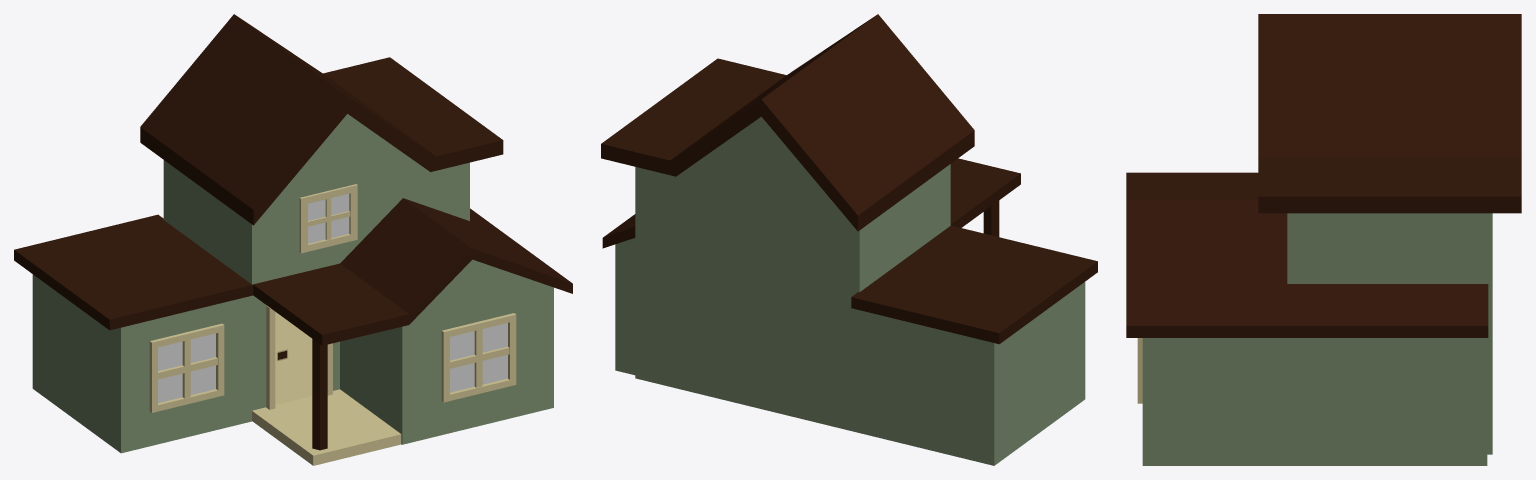
The model's file is casa verde_opt.glb.
The picture shows the model from 3 angles, left to right: view 1: azimuth 30°, elevation 25°; view 2: azimuth 150°, elevation 25°; view 3: azimuth 270°, elevation 25°; orthographic projection. The views are drawn at different scales.
Visible parts, largest first — view 1: Object_4; view 2: Object_4; view 3: Object_4.
Boxes of the visible parts, left/top/right/bottom form: Object_4: left=14, top=14, right=572, bottom=465; Object_4: left=601, top=14, right=1097, bottom=465; Object_4: left=1126, top=14, right=1521, bottom=465.
Bounding box in the file's own units: 18.65 × 14.16 × 13.94.
Materials: 1 (1 with a texture image).
